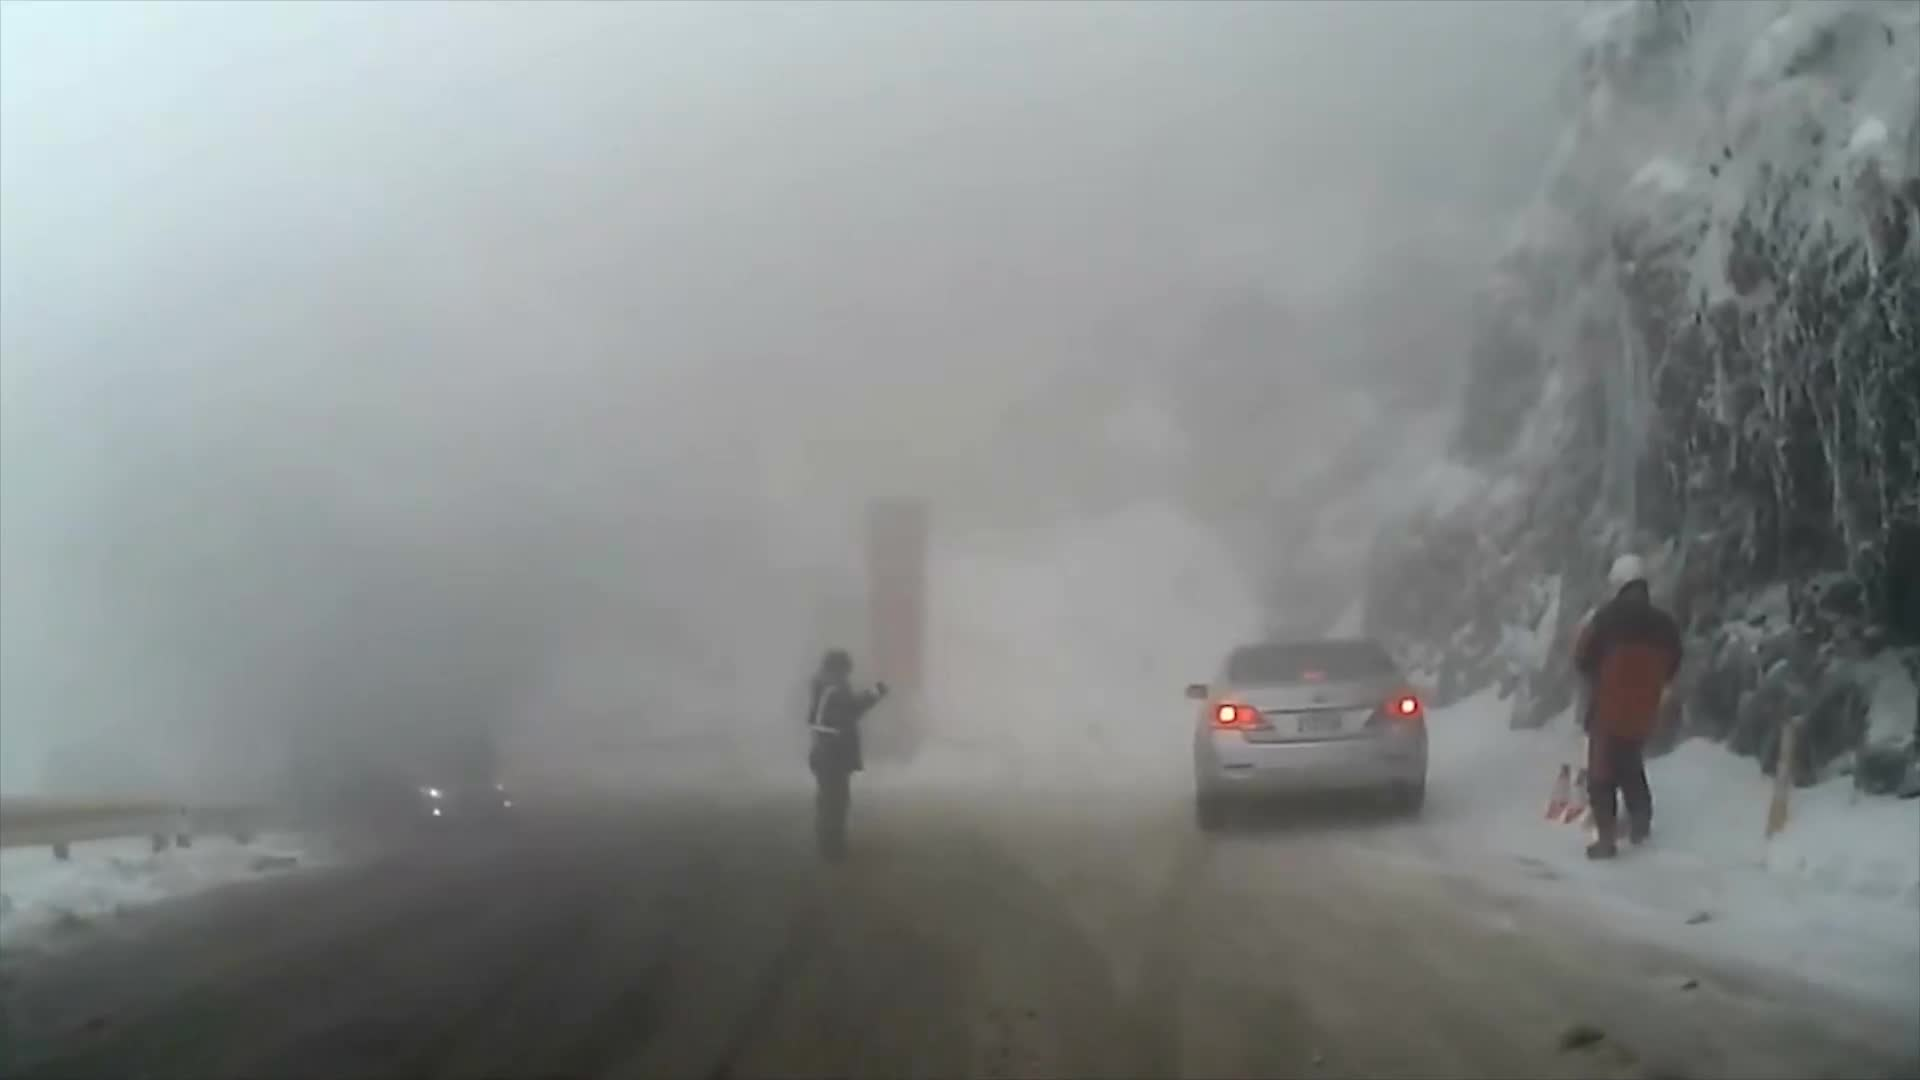pedestrian: (1574, 548, 1687, 858), (806, 647, 893, 857)
vehicle: (1185, 631, 1430, 830)
